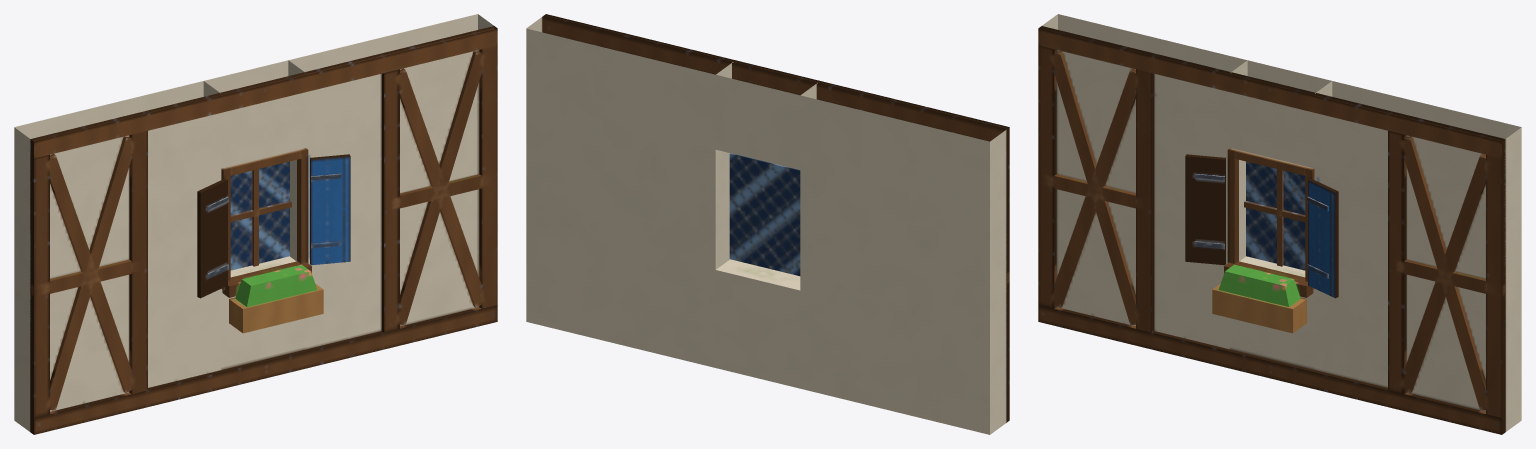
Rendered from Kit_House_Upper1.fbx.
The picture shows the model from 3 angles, left to right: view 1: azimuth 30°, elevation 25°; view 2: azimuth 150°, elevation 25°; view 3: azimuth 330°, elevation 25°; orthographic projection.
Visible parts, largest first — view 1: Kit_House_Upper1_LOD0; view 2: Kit_House_Upper1_LOD0; view 3: Kit_House_Upper1_LOD0.
Boxes of the visible parts, bbox=[...] form: Kit_House_Upper1_LOD0: bbox=[14, 14, 497, 434]; Kit_House_Upper1_LOD0: bbox=[526, 14, 1009, 434]; Kit_House_Upper1_LOD0: bbox=[1038, 14, 1521, 434].
Size of what is drawn, in the model's own units: 4.6 by 2.78 by 0.64.
Materials: 1 (1 with a texture image).
